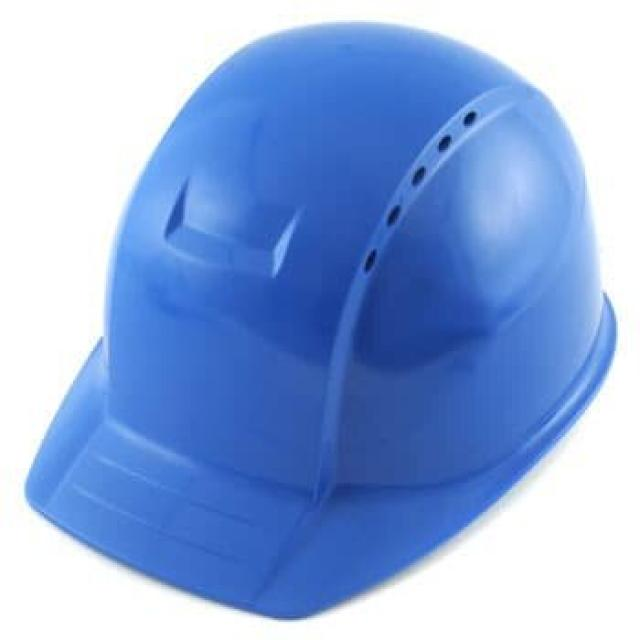illegal_helmet: (20, 14, 624, 630)
